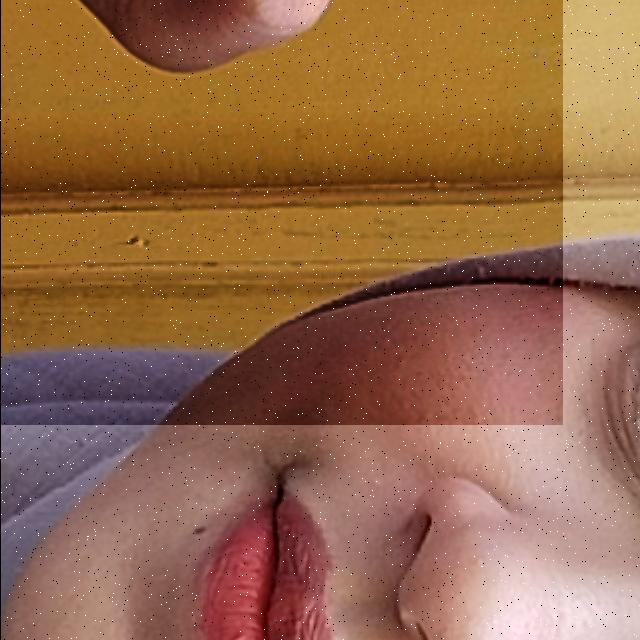baik: (0, 0, 562, 425)
